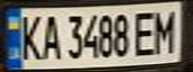3: (63, 11, 84, 60)
4: (81, 11, 100, 58)
8: (112, 10, 133, 57), (96, 10, 115, 58)
A: (36, 11, 63, 61)
E: (130, 8, 160, 57)
K: (15, 11, 42, 62)
M: (151, 6, 181, 55)
